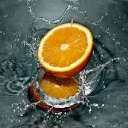orange: (35, 19, 94, 81)
